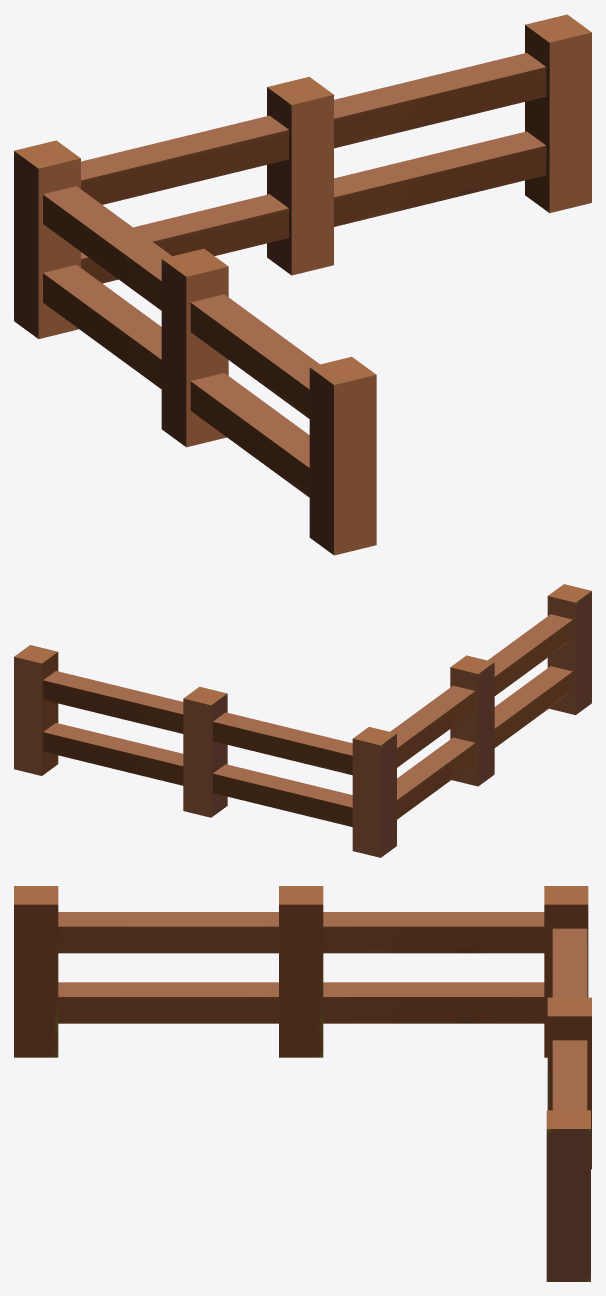
File: Ground_Fence_corner.fbx
The picture shows the model from 3 angles, top to bottom: view 1: azimuth 30°, elevation 25°; view 2: azimuth 150°, elevation 25°; view 3: azimuth 270°, elevation 25°; orthographic projection. The views are drawn at different scales.
Visible parts, largest first — view 1: Ground_Fence_corner; view 2: Ground_Fence_corner; view 3: Ground_Fence_corner.
Boxes of the visible parts, box(x1,y1,x2,y2) form: Ground_Fence_corner: box(14, 14, 591, 555); Ground_Fence_corner: box(14, 584, 591, 857); Ground_Fence_corner: box(14, 886, 591, 1281).
Size of the model in its own units: 8.73 by 8.78 by 2.56.
